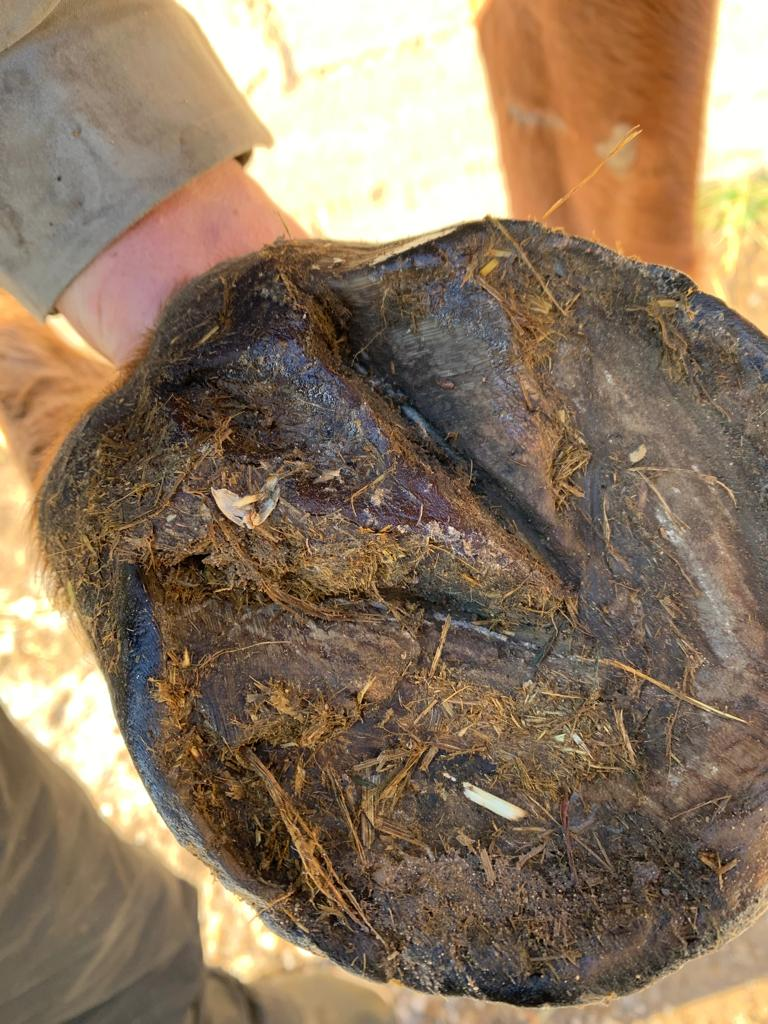horsesole: (119, 219, 768, 1009)
